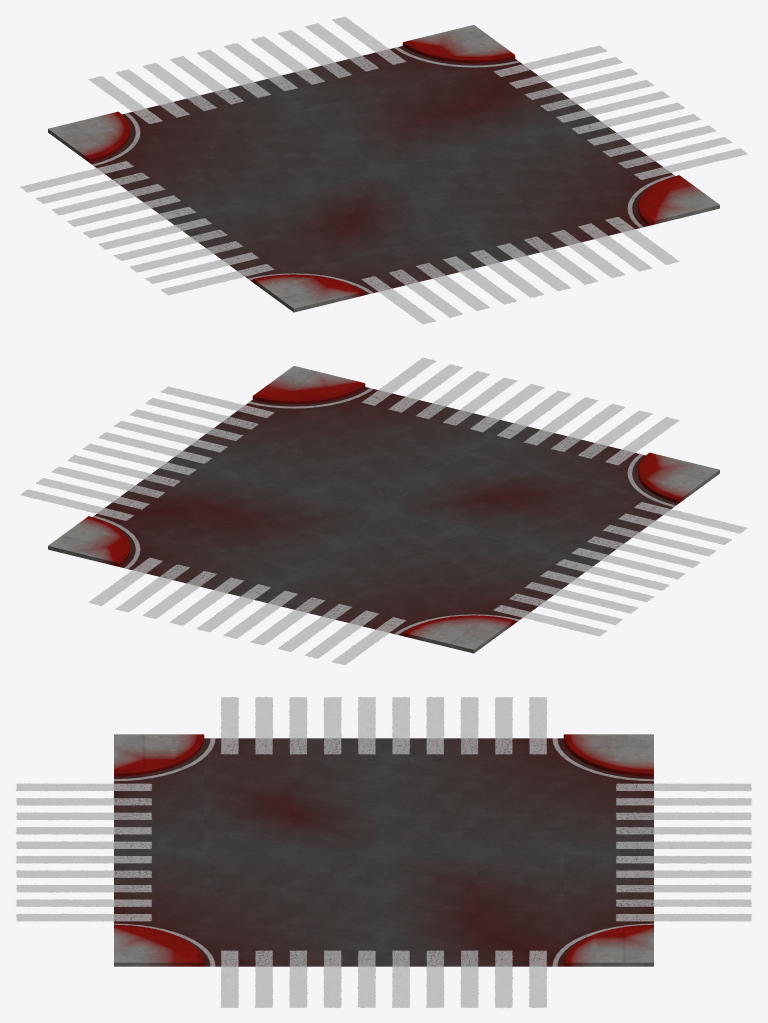
File: Street_4WayIntersection.gltf
The picture shows the model from 3 angles, top to bottom: view 1: azimuth 30°, elevation 25°; view 2: azimuth 150°, elevation 25°; view 3: azimuth 270°, elevation 25°; orthographic projection. The views are drawn at different scales.
Parts seen in each view (by area): view 1: Street_4WayIntersection; view 2: Street_4WayIntersection; view 3: Street_4WayIntersection.
Boxes of the visible parts, bbox=[...] form: Street_4WayIntersection: bbox=[20, 16, 747, 324]; Street_4WayIntersection: bbox=[20, 358, 747, 664]; Street_4WayIntersection: bbox=[16, 697, 751, 1007].
Bounding box in the file's own units: 24.67 × 0.15 × 24.67.
3 materials, 3 textured.
